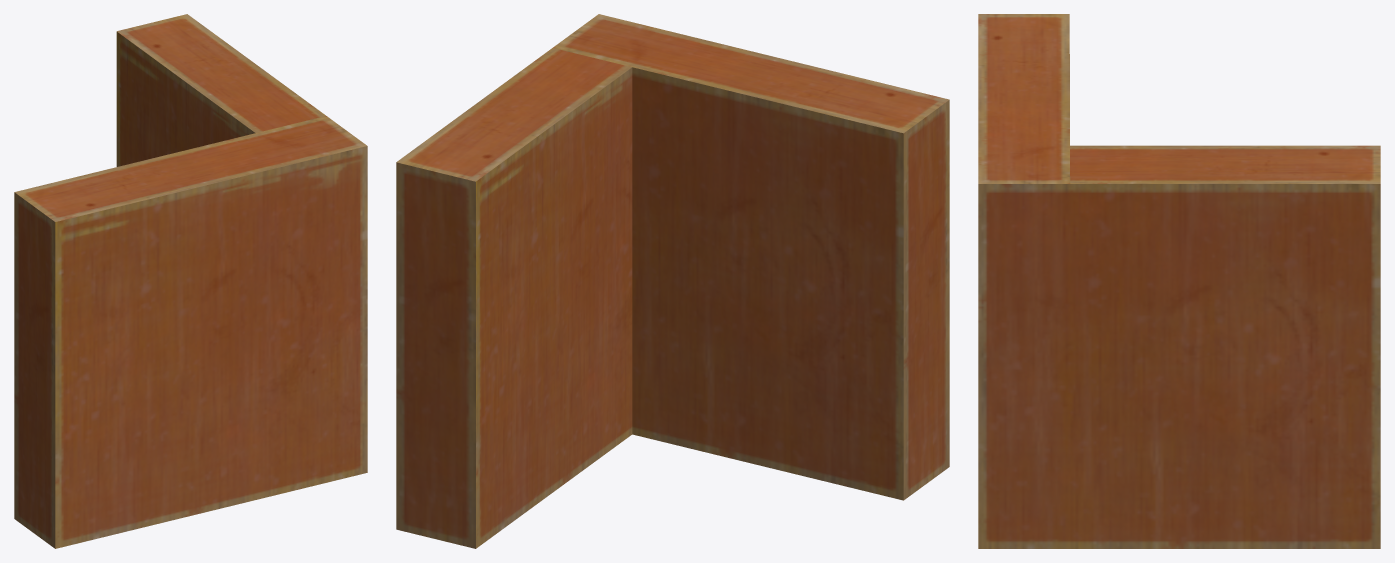
The model's file is Construction_Corner.fbx.
The picture shows the model from 3 angles, left to right: view 1: azimuth 30°, elevation 25°; view 2: azimuth 150°, elevation 25°; view 3: azimuth 270°, elevation 25°; orthographic projection. The views are drawn at different scales.
Parts seen in each view (by area): view 1: Construction_Corner; view 2: Construction_Corner; view 3: Construction_Corner.
Part boxes in pixels (x1,y1,x2,y2): Construction_Corner: (14,14,367,548); Construction_Corner: (396,14,949,548); Construction_Corner: (978,14,1380,548).
Bounding box in the file's own units: 1 × 1 × 1.
Materials: 1 (1 with a texture image).
